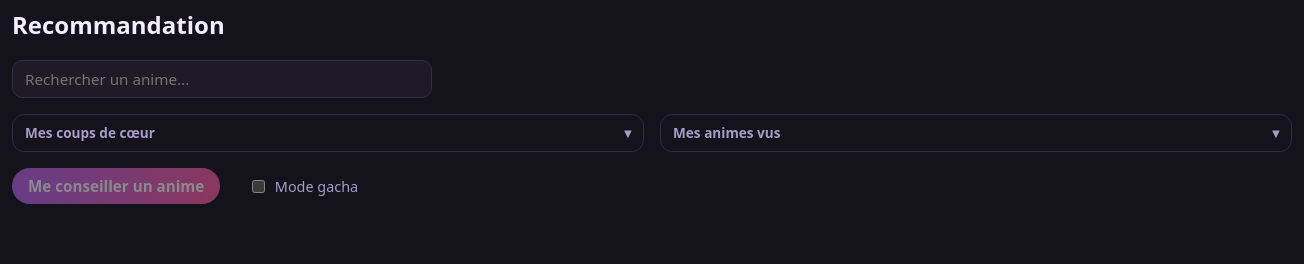
Scenario: Home › removes a selected anime from the base list when its remove button is clicked
Type "Fate" into the field labelled "Rechercher un anime" at (222, 79), box [12, 60, 432, 98]
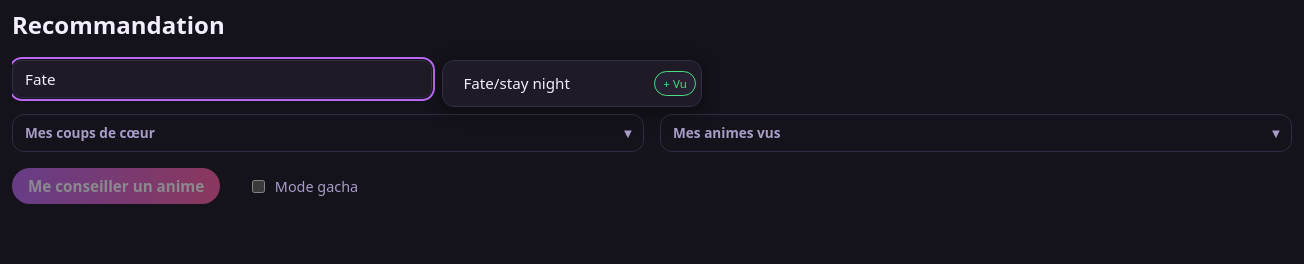
Now the button "Fate/stay night" is shown
Click the button "Fate/stay night" at (548, 83), box [447, 65, 650, 101]
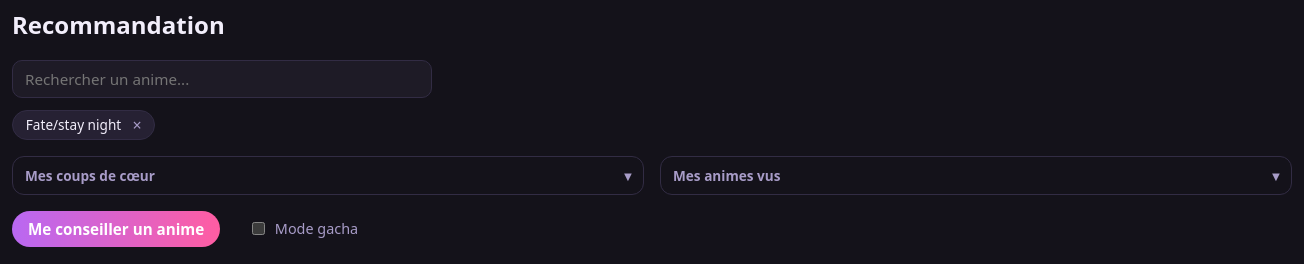
Click the button named "Retirer Fate/stay night" at (137, 125), box [128, 117, 146, 133]
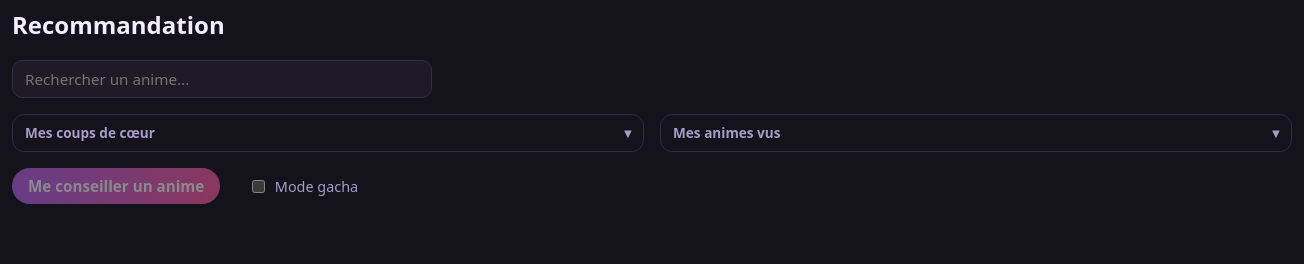
Now the list item "Fate/stay night" is gone
Now the button "Me conseiller un anime" is disabled, box [12, 168, 220, 204]
